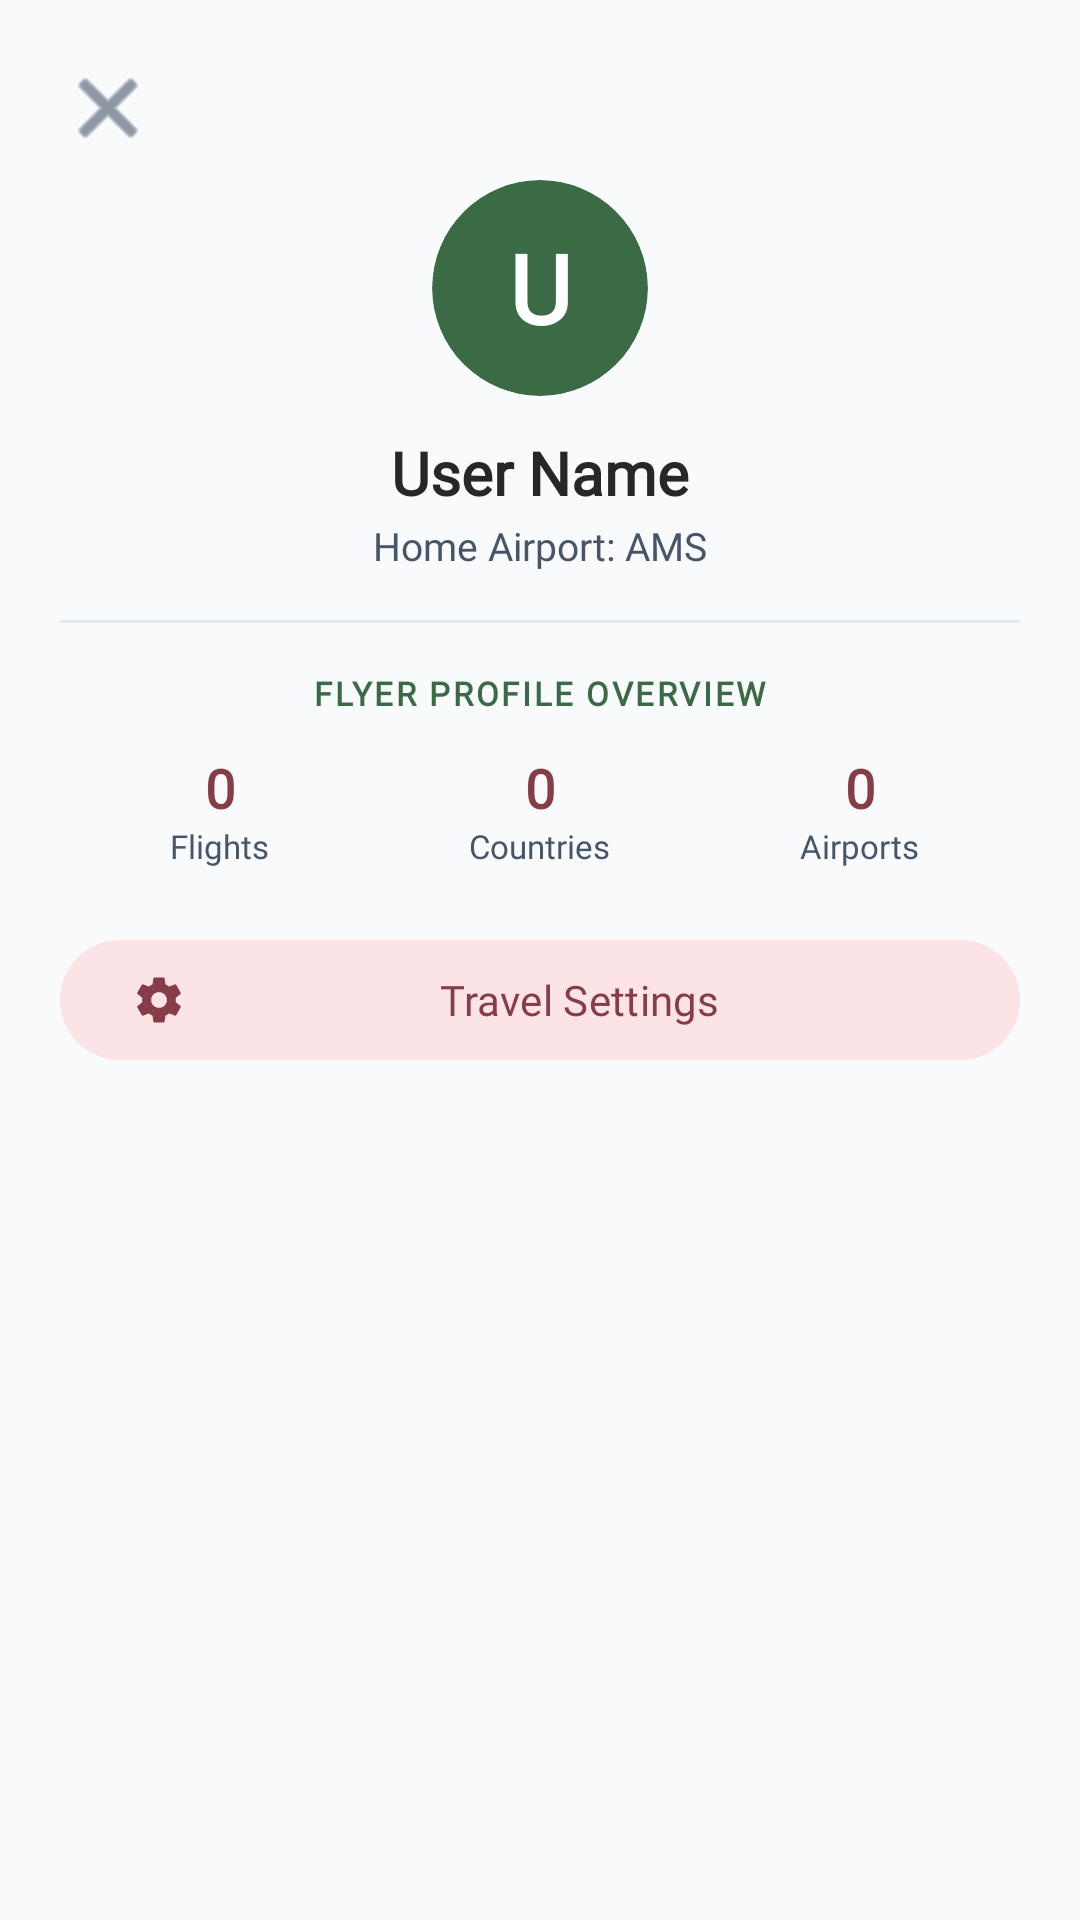

Named icons in this screenshot (1080*1920) and their centers, (x,y):
Close: (108,108)
